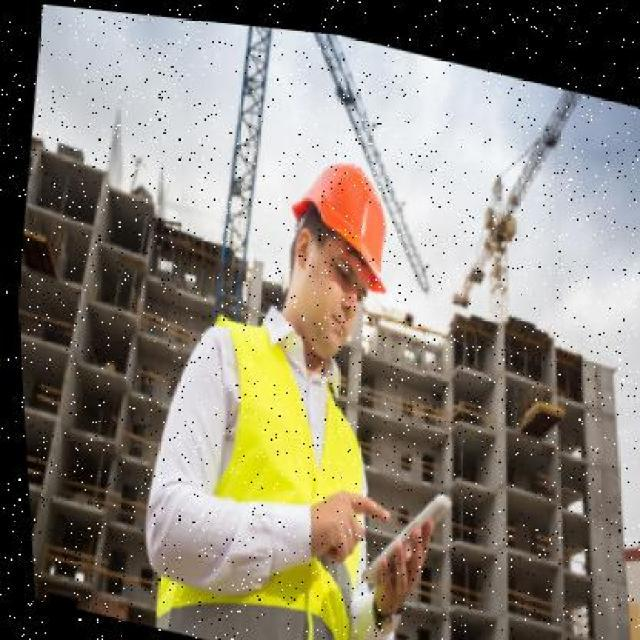helmet: (274, 142, 401, 300)
vest: (166, 291, 404, 639)
